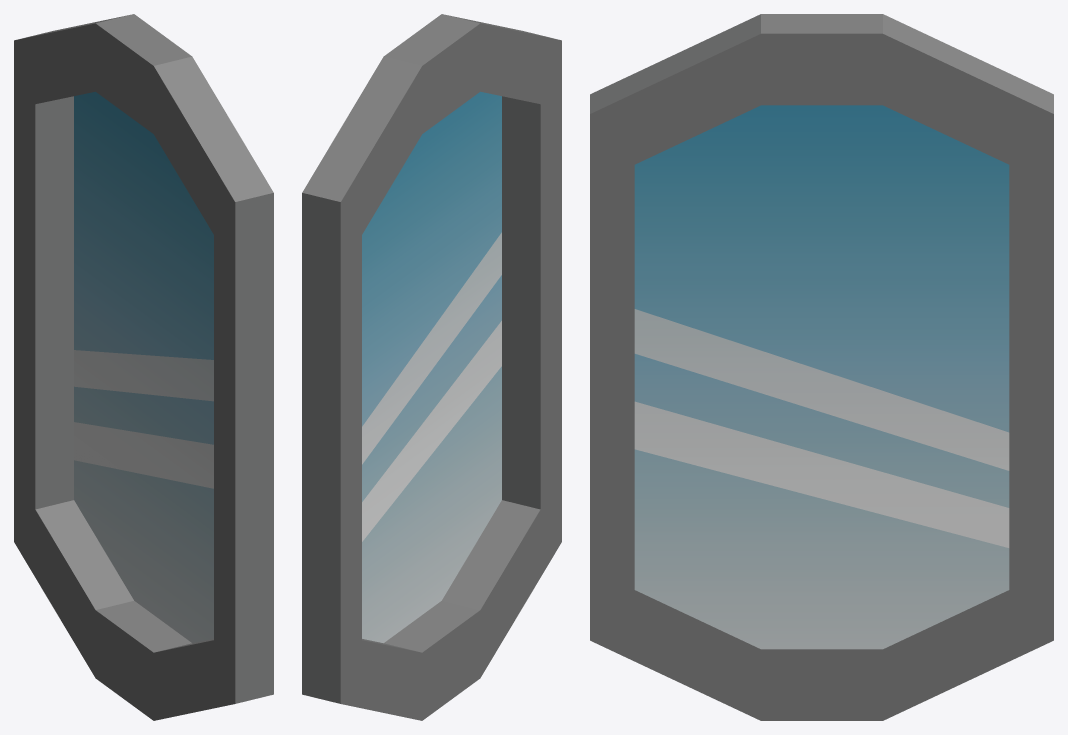
File: ST_Mirror.fbx
3 views of the same model, side by side, from view 1: azimuth 30°, elevation 25°; view 2: azimuth 150°, elevation 25°; view 3: azimuth 270°, elevation 25° (orthographic). The views are drawn at different scales.
Parts seen in each view (by area): view 1: ST_Mirror; view 2: ST_Mirror; view 3: ST_Mirror.
Boxes of the visible parts, bbox=[...] form: ST_Mirror: bbox=[14, 14, 273, 720]; ST_Mirror: bbox=[302, 14, 561, 720]; ST_Mirror: bbox=[590, 14, 1053, 720].
Bounding box in the file's own units: 3.54 × 57.38 × 35.1.
